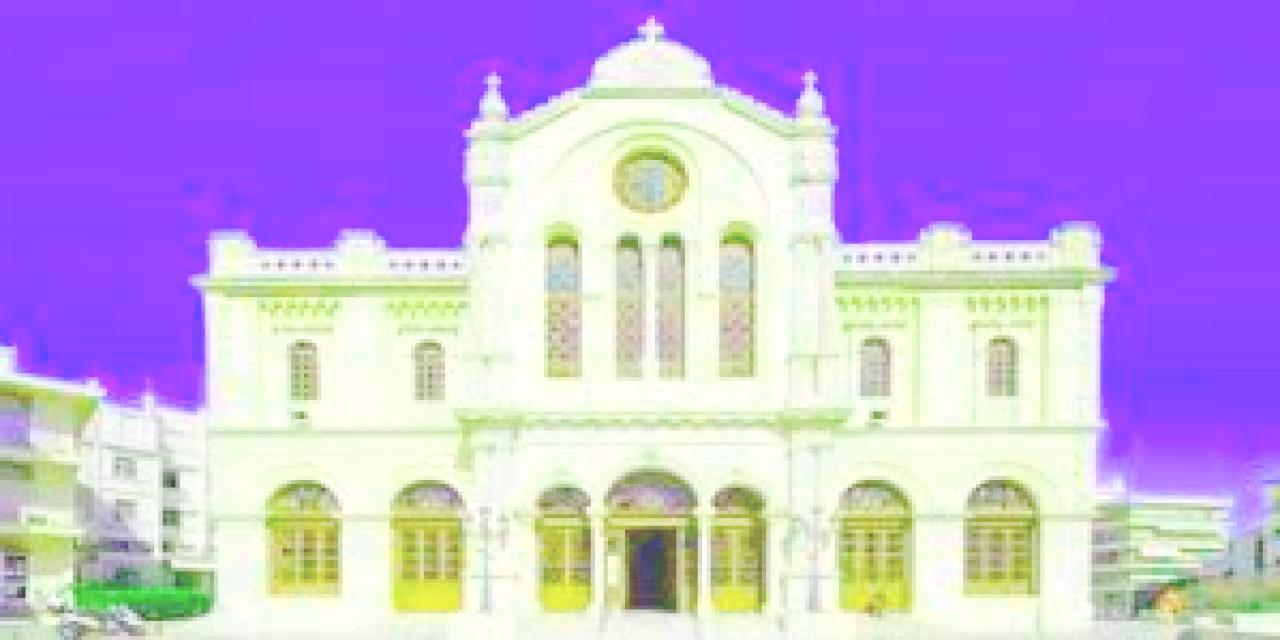Agios Minas: (199, 1, 1115, 640)
